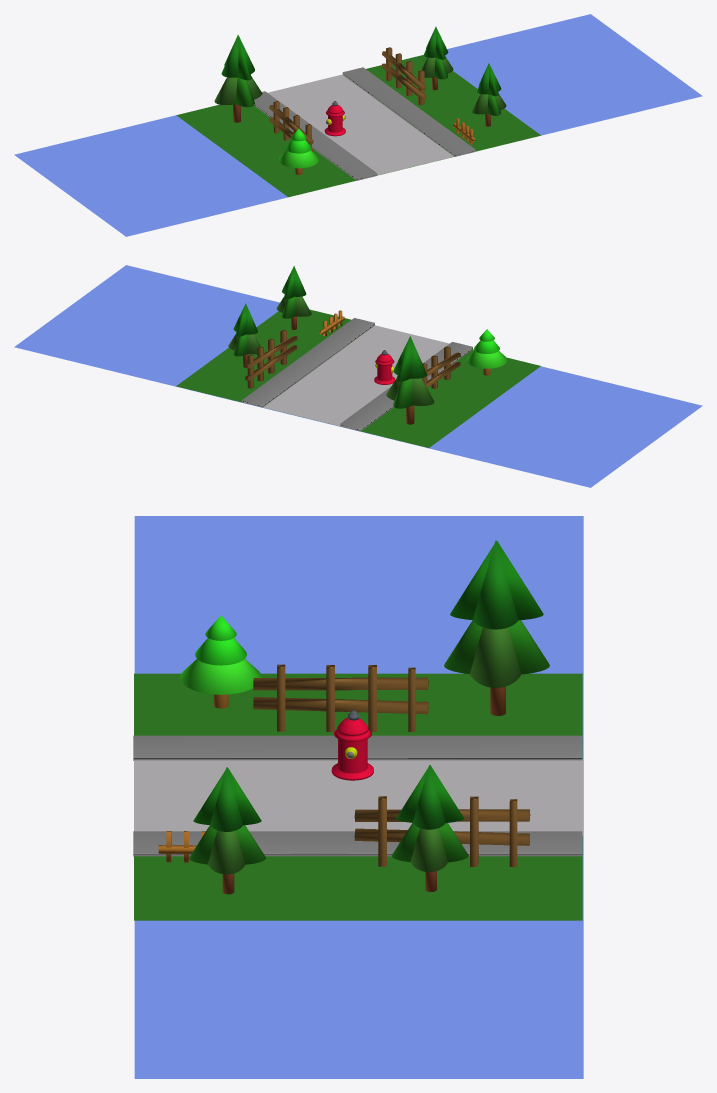
The picture shows the model from 3 angles, top to bottom: view 1: azimuth 30°, elevation 25°; view 2: azimuth 150°, elevation 25°; view 3: azimuth 270°, elevation 25°; orthographic projection. The views are drawn at different scales.
Visible parts, largest first — view 1: agua, pasto, calle, banqueta izrd.001, Cono.003, banqueta izrd, carca 2 maderas, Cono.001, Cono.002, Cilindro.012, cerca 2 maderas 2.003, Círculo; view 2: agua, pasto, calle, banqueta izrd.001, Cono.003, banqueta izrd, carca 2 maderas, Cono.001, Cono.002, Cilindro.012, cerca 2 maderas 2.003, Círculo; view 3: agua, pasto, calle, banqueta izrd, Cono.003, banqueta izrd.001, cerca 2 maderas 2.003, Cono.001, Cono.002, carca 2 maderas, Cilindro.012, Círculo.
Part boxes in pixels (x1=…): agua: x1=14, y1=14, x2=702, y2=236; pasto: x1=176, y1=55, x2=540, y2=197; calle: x1=267, y1=74, x2=453, y2=175; banqueta izrd.001: x1=342, y1=67, x2=475, y2=156; Cono.003: x1=214, y1=35, x2=262, y2=122; banqueta izrd: x1=254, y1=91, x2=377, y2=180; carca 2 maderas: x1=381, y1=47, x2=426, y2=105; Cono.001: x1=471, y1=63, x2=506, y2=126; Cono.002: x1=421, y1=26, x2=453, y2=90; Cilindro.012: x1=278, y1=129, x2=319, y2=174; cerca 2 maderas 2.003: x1=269, y1=101, x2=313, y2=152; Círculo: x1=324, y1=101, x2=345, y2=136; agua: x1=14, y1=265, x2=702, y2=487; pasto: x1=176, y1=309, x2=540, y2=447; calle: x1=263, y1=325, x2=449, y2=426; banqueta izrd.001: x1=242, y1=318, x2=374, y2=407; Cono.003: x1=386, y1=336, x2=434, y2=424; banqueta izrd: x1=340, y1=342, x2=472, y2=431; carca 2 maderas: x1=244, y1=329, x2=297, y2=388; Cono.001: x1=276, y1=266, x2=311, y2=329; Cono.002: x1=228, y1=303, x2=260, y2=367; Cilindro.012: x1=466, y1=329, x2=507, y2=375; cerca 2 maderas 2.003: x1=422, y1=346, x2=460, y2=389; Círculo: x1=374, y1=350, x2=395, y2=384; agua: x1=134, y1=516, x2=583, y2=1078; pasto: x1=134, y1=673, x2=582, y2=920; calle: x1=134, y1=759, x2=582, y2=835; banqueta izrd: x1=133, y1=735, x2=582, y2=760; Cono.003: x1=444, y1=540, x2=549, y2=715; banqueta izrd.001: x1=133, y1=831, x2=582, y2=856; cerca 2 maderas 2.003: x1=253, y1=664, x2=428, y2=731; Cono.001: x1=189, y1=767, x2=265, y2=894; Cono.002: x1=391, y1=765, x2=468, y2=891; carca 2 maderas: x1=354, y1=796, x2=530, y2=866; Cilindro.012: x1=180, y1=615, x2=261, y2=708; Círculo: x1=331, y1=710, x2=373, y2=780.
Bounding box in the file's own units: 5895 × 885 × 1991.
